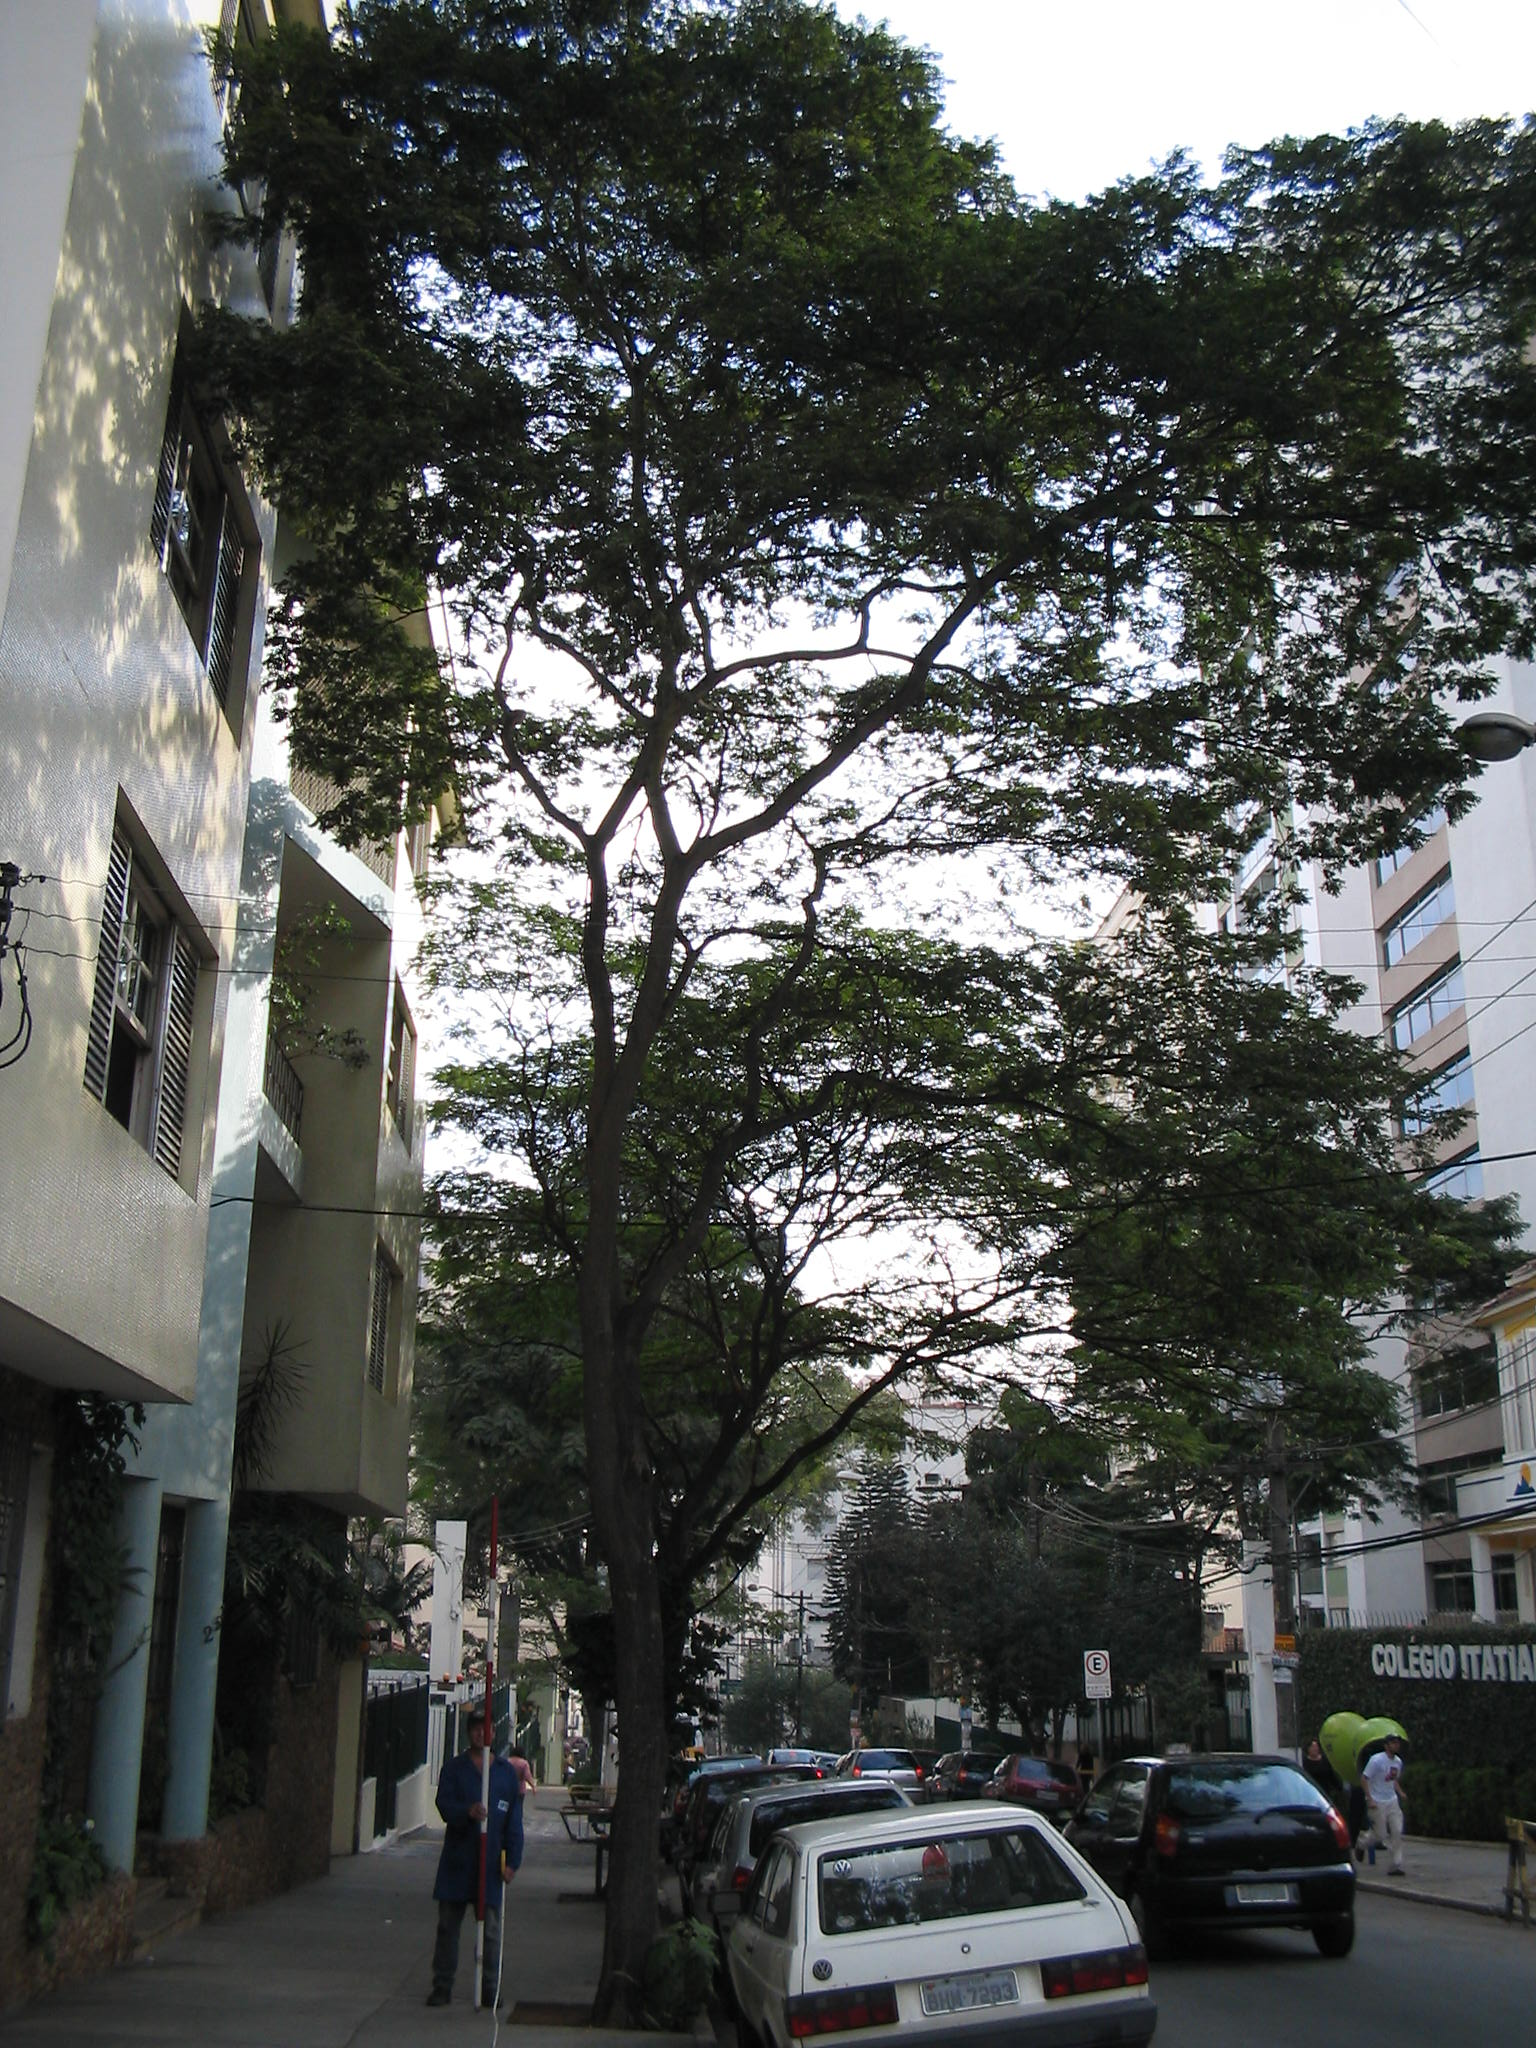crown: (189, 5, 1534, 934), (419, 945, 1534, 1563)
stem: (561, 1621, 721, 2021)
stick: (457, 1495, 524, 2004)
tree: (177, 3, 1536, 2025)
